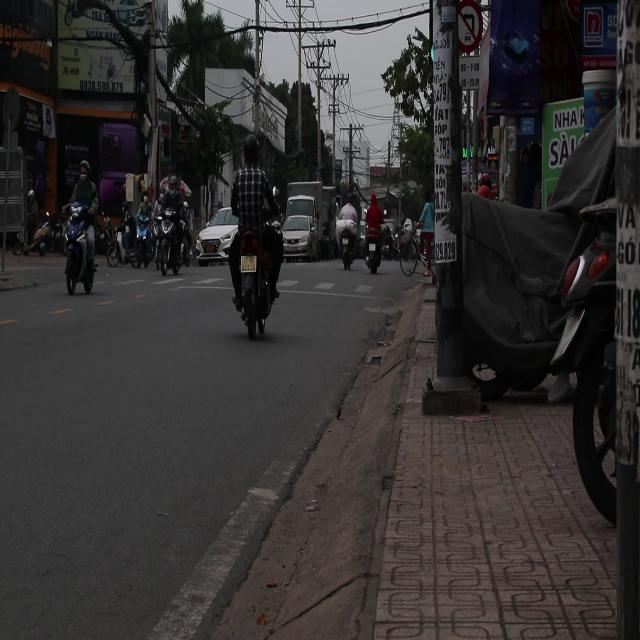car: (196, 222, 236, 268)
motorbike: (224, 227, 274, 338), (59, 204, 103, 298), (152, 211, 184, 276), (23, 208, 63, 255), (136, 194, 159, 272), (365, 224, 396, 274), (339, 222, 366, 273), (107, 215, 129, 266), (95, 210, 117, 260), (376, 224, 394, 262)
truck: (283, 182, 334, 264)
